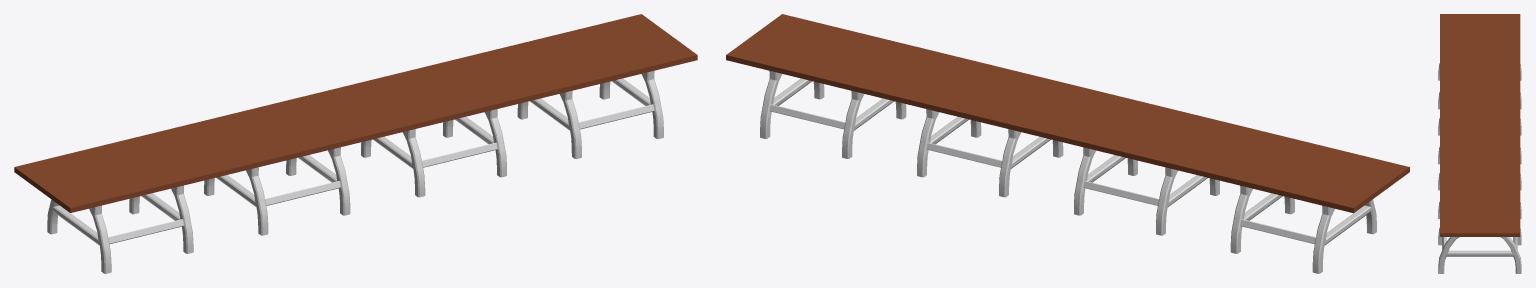
The model's file is Cafeteria_Mesa.fbx.
3 renders of one model, left to right at view 1: azimuth 30°, elevation 25°; view 2: azimuth 150°, elevation 25°; view 3: azimuth 270°, elevation 25°, orthographic. The views are drawn at different scales.
Visible parts, largest first — view 1: Comedor_Mesa; view 2: Comedor_Mesa; view 3: Comedor_Mesa.
Part boxes in pixels (x1,y1,x2,y2): Comedor_Mesa: (14, 14, 697, 273); Comedor_Mesa: (726, 14, 1409, 273); Comedor_Mesa: (1438, 14, 1521, 273).
Bounding box in the file's own units: 2719 × 304 × 437.
